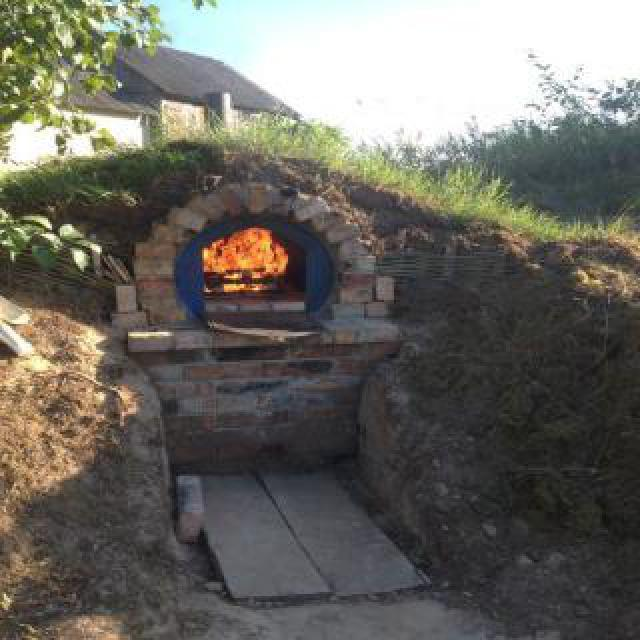zfire: (196, 218, 302, 298)
